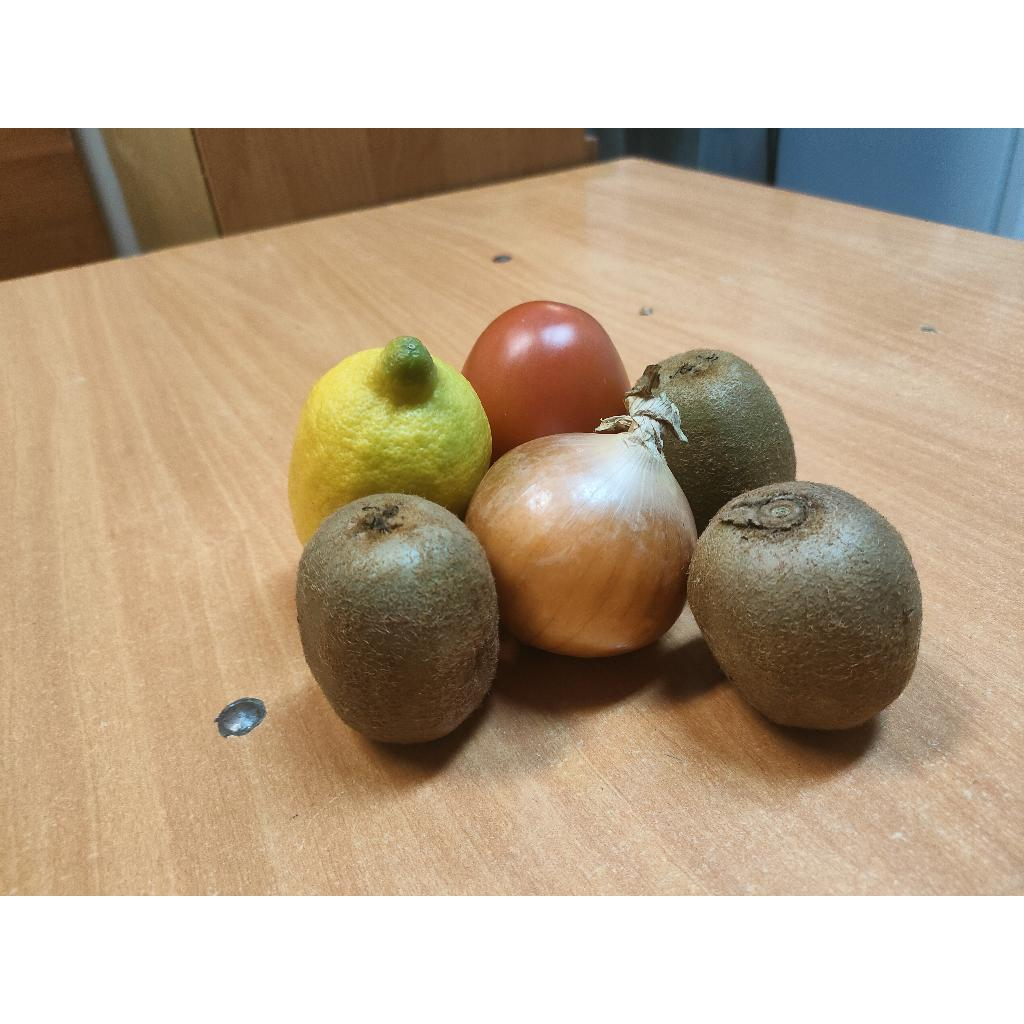kiwi: (466, 366, 696, 658), (688, 482, 922, 730), (296, 494, 498, 744), (658, 348, 796, 534)
lemon: (288, 336, 492, 544)
tomato: (462, 302, 630, 462)
